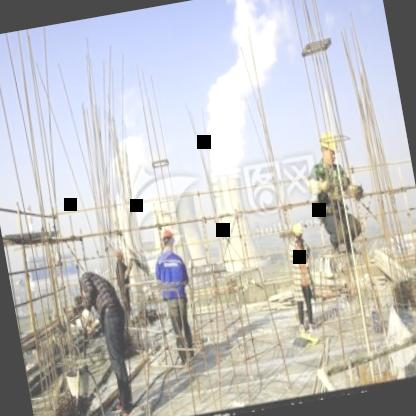helmet: (316, 128, 341, 168), (158, 227, 178, 255), (288, 217, 306, 242)
